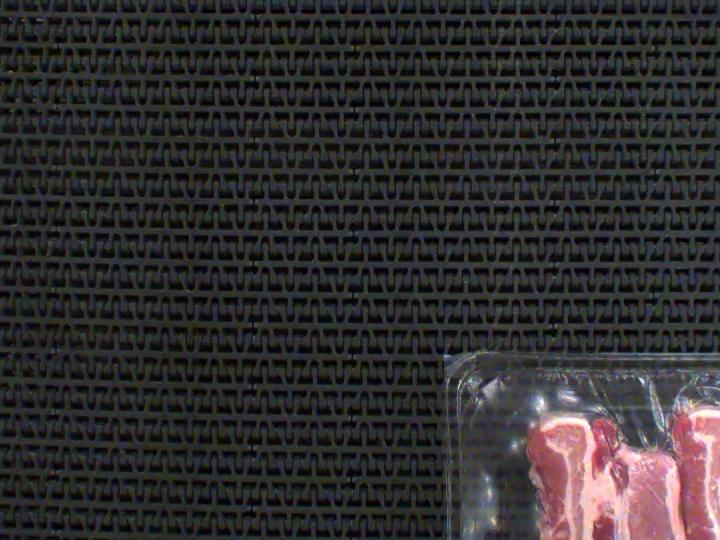unsealed: (457, 352, 720, 540)
